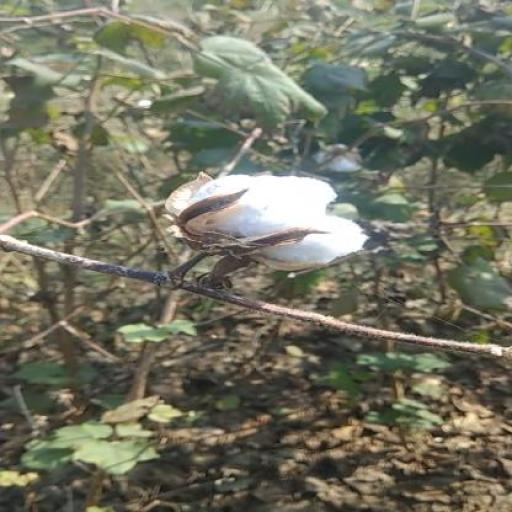cotton_ready: (132, 169, 382, 304)
